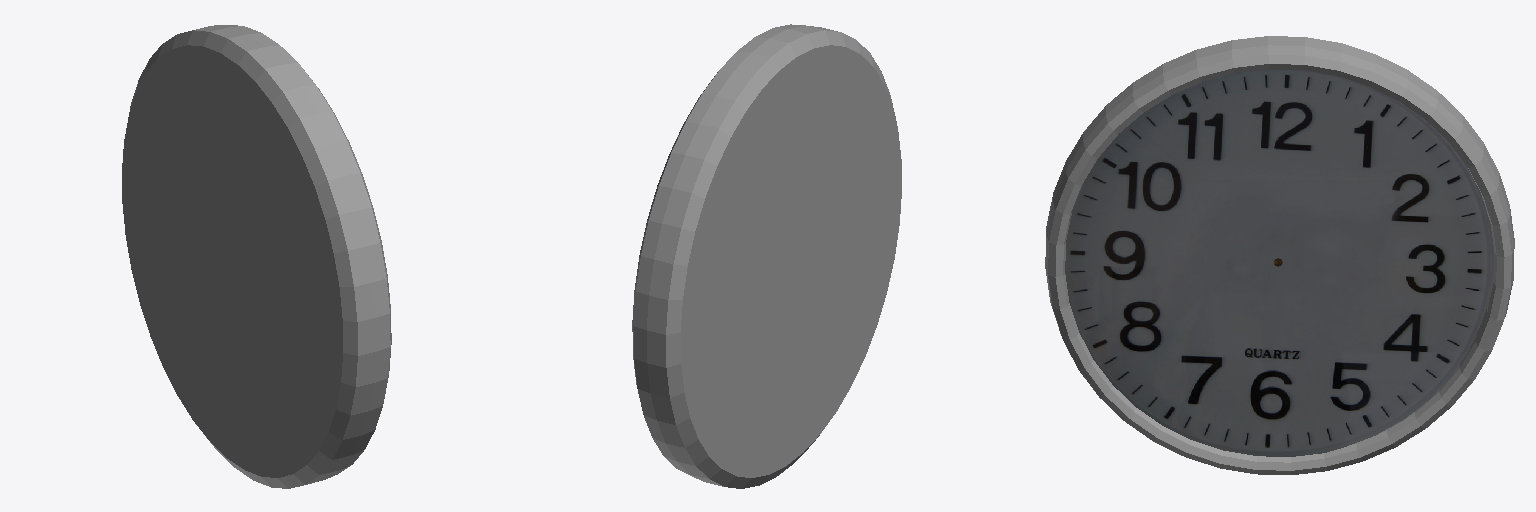
3 renders of one model, left to right at view 1: azimuth 30°, elevation 25°; view 2: azimuth 150°, elevation 25°; view 3: azimuth 270°, elevation 25°, orthographic.
Visible parts, largest first — view 1: Circle.016_Circle.006; view 2: Circle.016_Circle.006; view 3: Circle.000, Circle.016_Circle.006.
Boxes of the visible parts, <box> form: Circle.016_Circle.006: <box>122,25,391,488</box>; Circle.016_Circle.006: <box>632,24,901,488</box>; Circle.000: <box>1065,69,1491,456</box>; Circle.016_Circle.006: <box>1045,36,1514,474</box>.
Bounding box in the file's own units: 0.1027 × 0.8916 × 0.8916.
6 materials, 1 textured.